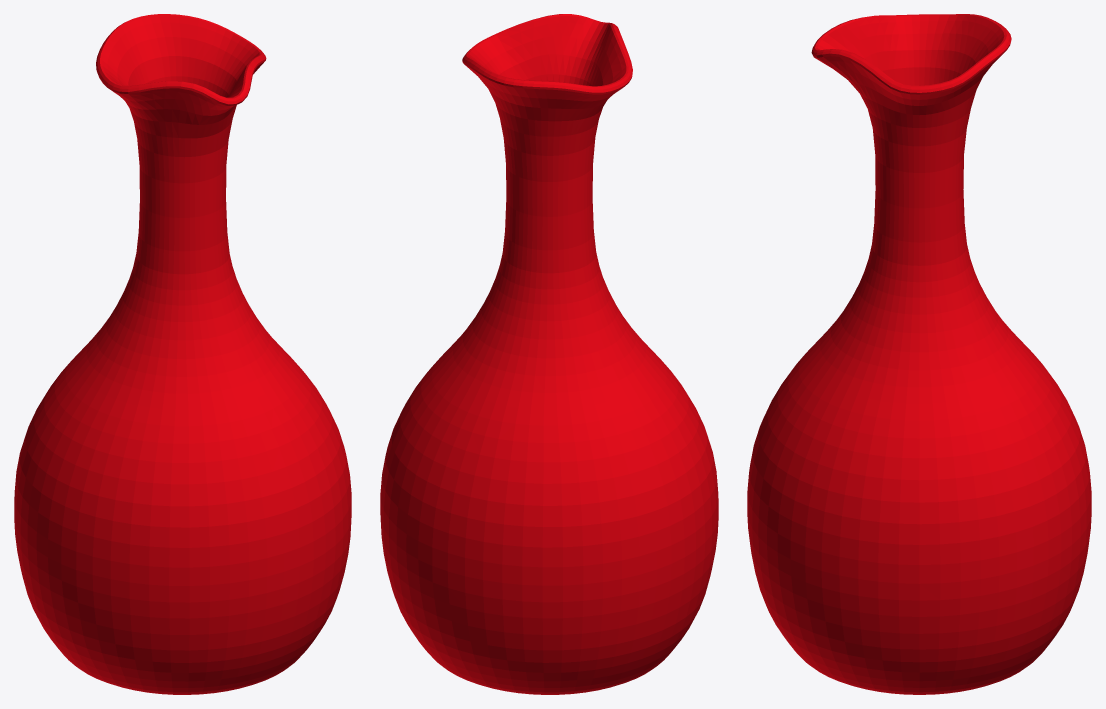
File: flat_vase.glb
3 views of the same model, side by side, from view 1: azimuth 30°, elevation 25°; view 2: azimuth 150°, elevation 25°; view 3: azimuth 270°, elevation 25° (orthographic). The views are drawn at different scales.
Parts seen in each view (by area): view 1: ceramic_vase_01_Cylinder.009; view 2: ceramic_vase_01_Cylinder.009; view 3: ceramic_vase_01_Cylinder.009.
Boxes of the visible parts, x1,y1,x2,y2 form: ceramic_vase_01_Cylinder.009: (14,14,351,694); ceramic_vase_01_Cylinder.009: (380,14,718,694); ceramic_vase_01_Cylinder.009: (747,14,1091,694).
Size of the model in its own units: 0.2036 by 0.4003 by 0.2036.
